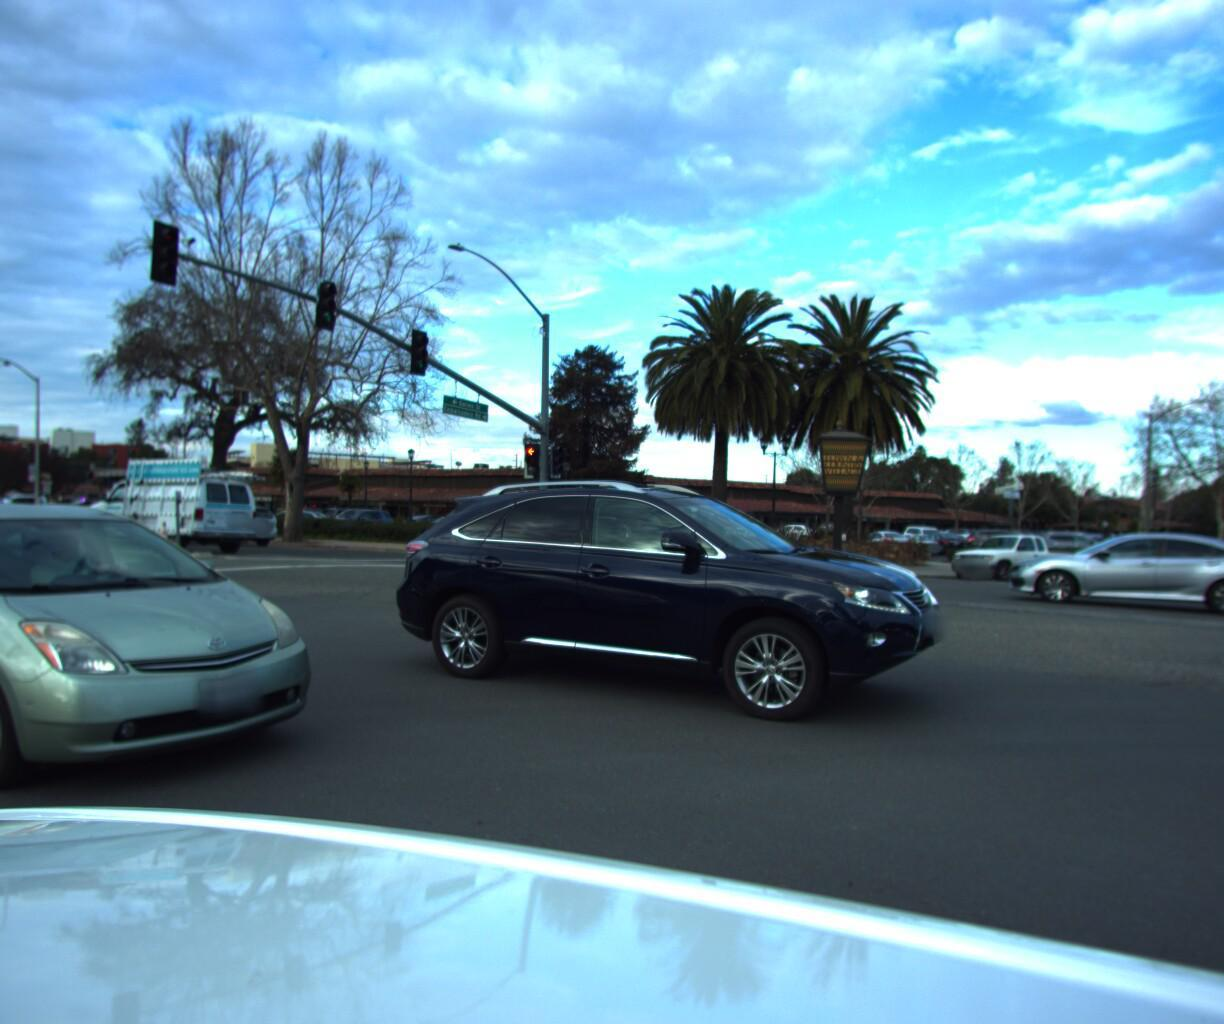car: (381, 465, 971, 742), (0, 495, 351, 840), (1007, 519, 1224, 616), (70, 456, 273, 552), (939, 526, 1089, 582), (0, 489, 54, 603), (162, 496, 283, 541), (963, 520, 1055, 556), (1127, 523, 1224, 557), (0, 474, 38, 559), (1031, 521, 1122, 554), (0, 489, 99, 518), (1171, 530, 1224, 581), (320, 500, 400, 532)
